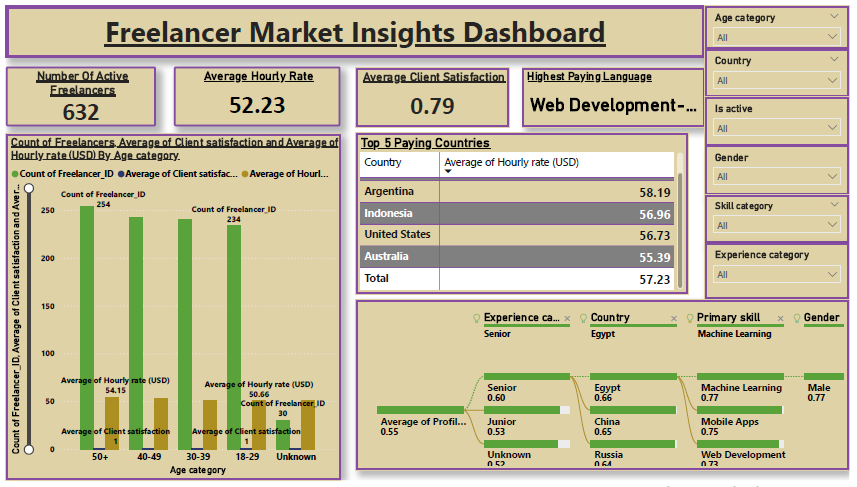

This screenshot's page, from the dashboard's own definition file:
{"tool":"powerbi","page":{"name":"Dashboard","canvas":[1280,720],"ordinal":6},"visuals":[{"type":"textbox","box":[0,0,1061,79],"z":0},{"type":"card","title":"Average Hourly Rate","fields":{"Values":["Avg(Final table.Hourly rate (USD))"]},"box":[254.6,92.2,253.2,90.7],"z":1000},{"type":"card","title":"Number Of Active Freelancers","fields":{"Values":["Final table.ActiveFreelancers"]},"box":[0,91.6,228,91.6],"z":2000},{"type":"card","title":"Highest Paying Language","fields":{"Values":["Final table.Highest_Paying_Skill"]},"box":[783.7,93.6,277.4,90.2],"z":3000},{"type":"slicer","fields":{"Values":["Final table.Gender"]},"box":[1061,212.2,219.5,74.6],"z":4000},{"type":"slicer","fields":{"Values":["Final table.Age category"]},"box":[1061,0,219.5,65.9],"z":5000},{"type":"slicer","fields":{"Values":["Final table.Skill category"]},"box":[1061,286.8,219.5,73.2],"z":6000},{"type":"slicer","fields":{"Values":["Final table.Country"]},"box":[1061,65.9,219.5,71.7],"z":7000},{"type":"slicer","fields":{"Values":["Final table.Experience category"]},"box":[1061,360,219.5,84.9],"z":8000},{"type":"card","title":"Average Client Satisfaction","fields":{"Values":["Avg(Final table.Client satisfaction)"]},"box":[531.2,93.7,232.7,90.7],"z":9000},{"type":"pivotTable","title":"Top 5 Paying Countries","fields":{"Values":["Avg(Final table.Hourly rate (USD))"],"Rows":["Final table.Country"]},"box":[531,193,505,245],"z":10000},{"type":"decompositionTreeVisual","fields":{"Analyze":["Avg(Final table.Profile Value Score)"],"ExplainBy":["Final table.Experience category","Final table.Country","Final table.Primary skill","Final table.Gender","Final table.Language"]},"box":[531.4,446.2,748.6,259],"z":11000},{"type":"slicer","fields":{"Values":["Final table.Is active"]},"box":[1061,137.6,219.5,74.6],"z":12000},{"type":"clusteredColumnChart","title":"Count of Freelancers, Average of Client satisfaction and Average of Hourly rate (USD) By Age category","fields":{"Category":["Final table.Age category"],"Y":["CountNonNull(Final table.Freelancer_ID)","Avg(Final table.Client satisfaction)","Avg(Final table.Hourly rate (USD))"]},"box":[0,193.9,508.1,526],"z":13000}]}

Visuals, with their boxes in screenshot pixels (x1, y1, x2, y2), scaled from the page's 1280x720 canvas onto the 857x487 screenshot:
textbox: 0 0 710 53
"Average Hourly Rate" card: 170 62 340 124
"Number Of Active Freelancers" card: 0 62 153 124
"Highest Paying Language" card: 525 63 710 124
slicer - Final table.Gender: 710 144 856 194
slicer - Final table.Age category: 710 0 856 45
slicer - Final table.Skill category: 710 194 856 244
slicer - Final table.Country: 710 45 856 93
slicer - Final table.Experience category: 710 244 856 301
"Average Client Satisfaction" card: 356 63 511 125
"Top 5 Paying Countries" pivotTable: 356 131 694 296
decompositionTreeVisual - Avg(Final table.Profile Value Score) x Final table.Experience category: 356 302 856 477
slicer - Final table.Is active: 710 93 856 144
"Count of Freelancers, Average of Client satisfaction and Average of Hourly rate (USD) By Age category" clusteredColumnChart: 0 131 340 486
